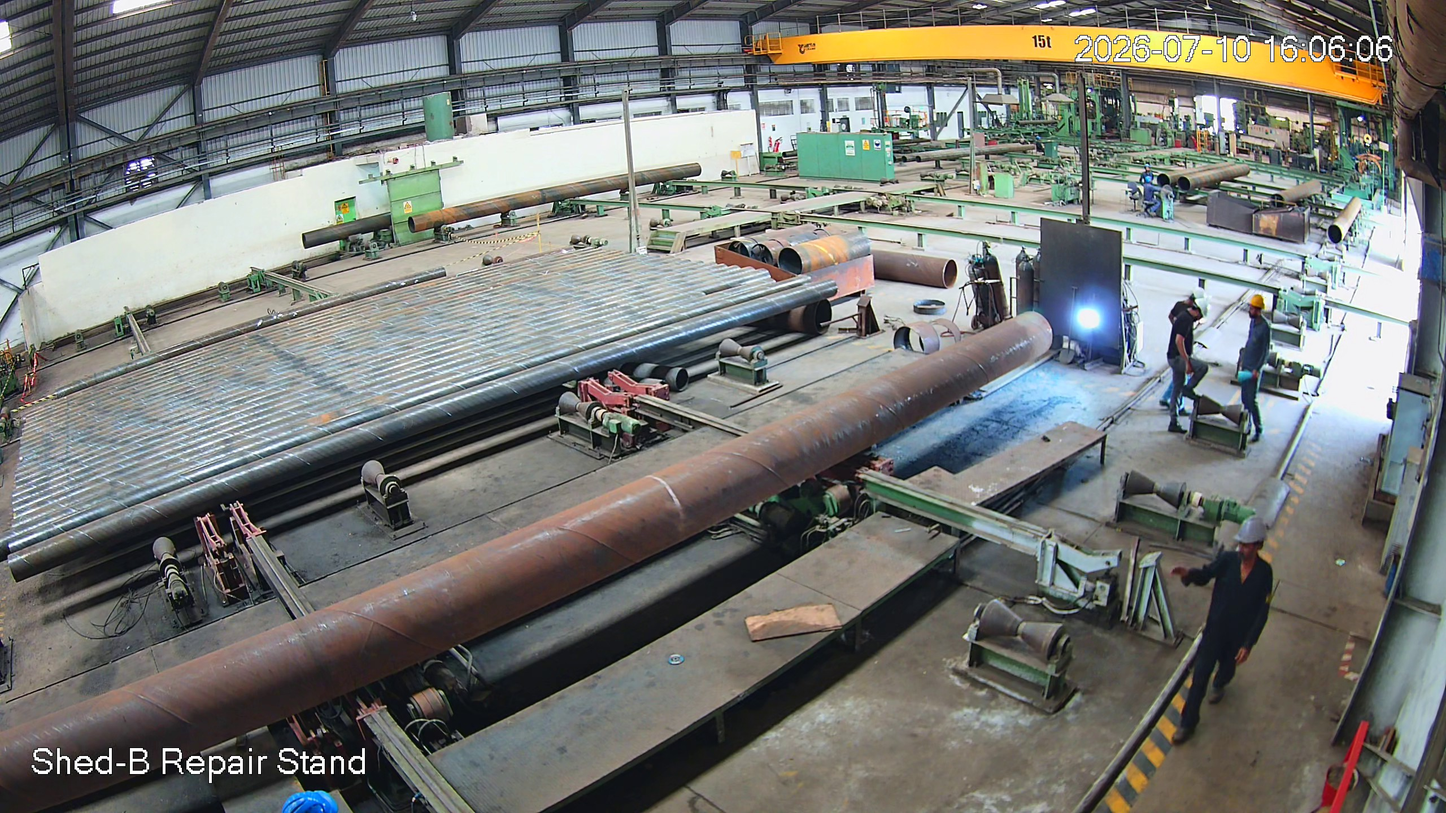Helmet: (1221, 505, 1294, 584), (1189, 296, 1221, 329), (1246, 290, 1268, 322)
Person: (1150, 514, 1290, 753), (1168, 300, 1215, 437), (1236, 294, 1275, 442)
